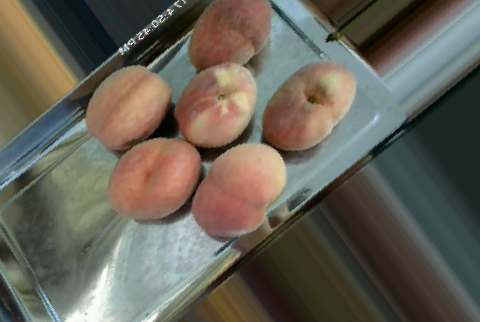Peach: (190, 142, 287, 237), (262, 60, 356, 149), (106, 134, 200, 220), (85, 64, 171, 151), (173, 62, 257, 148), (188, 0, 272, 68)
